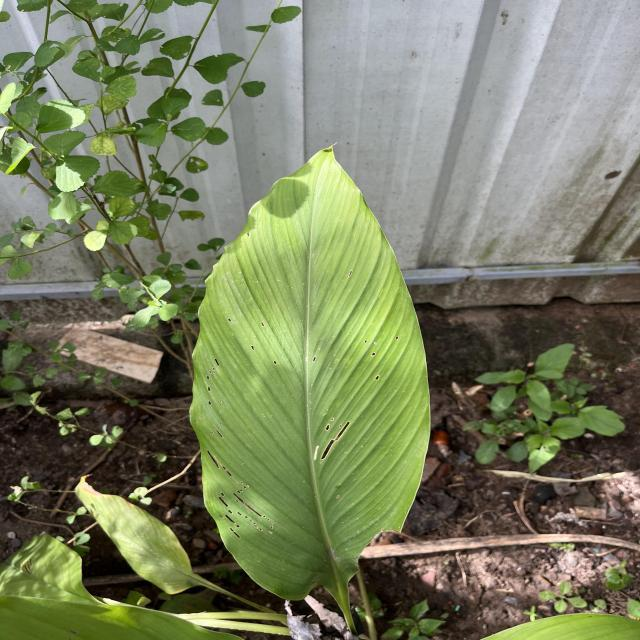Curcuma longa: (185, 137, 435, 603)
